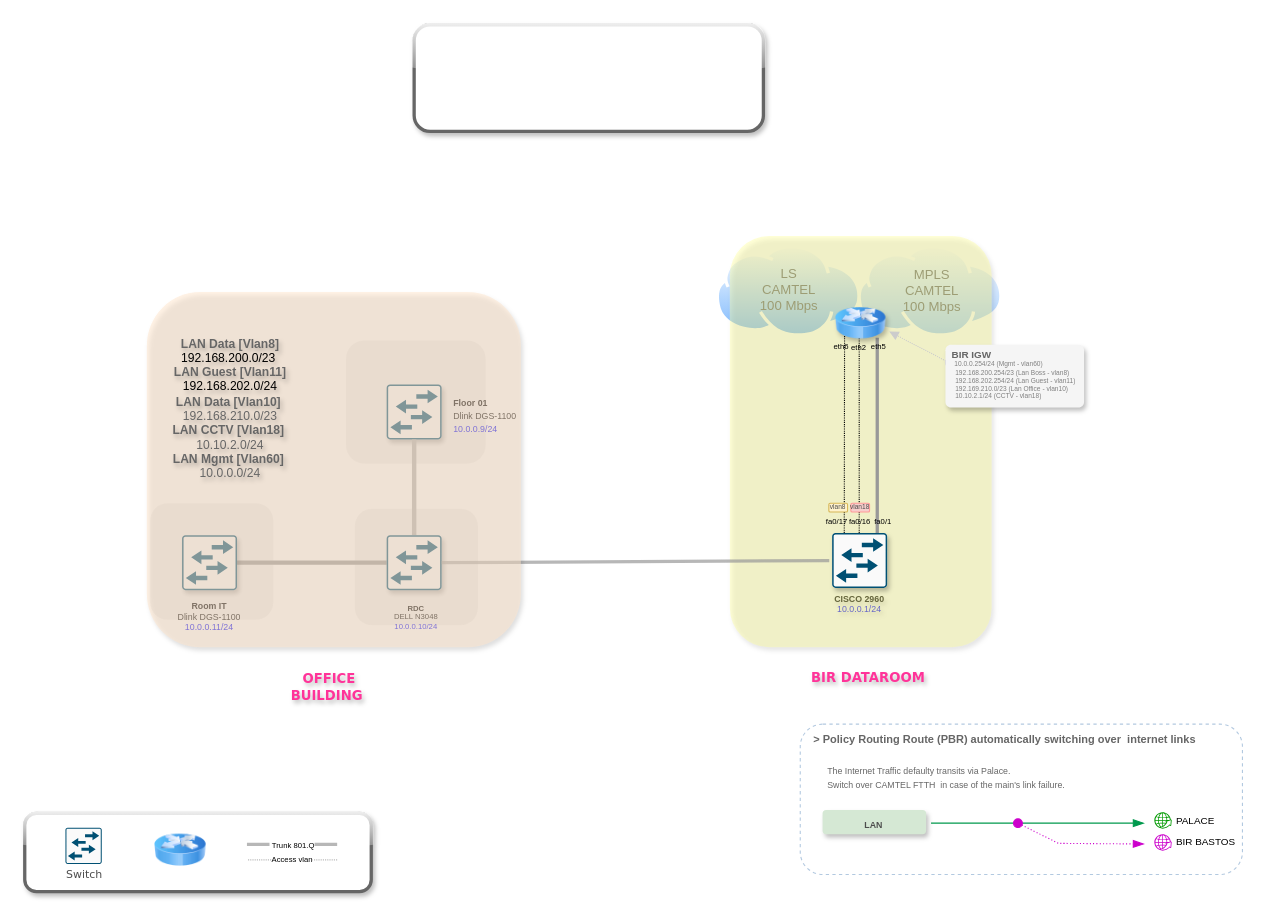
Image size: 1277x920. Some labels were removed from this diagram. Each missing label, with the centre of its shape:
DPC OFFICE (Yaounde) Physical Core Network: the point at 589,79
Router: the point at 180,850
